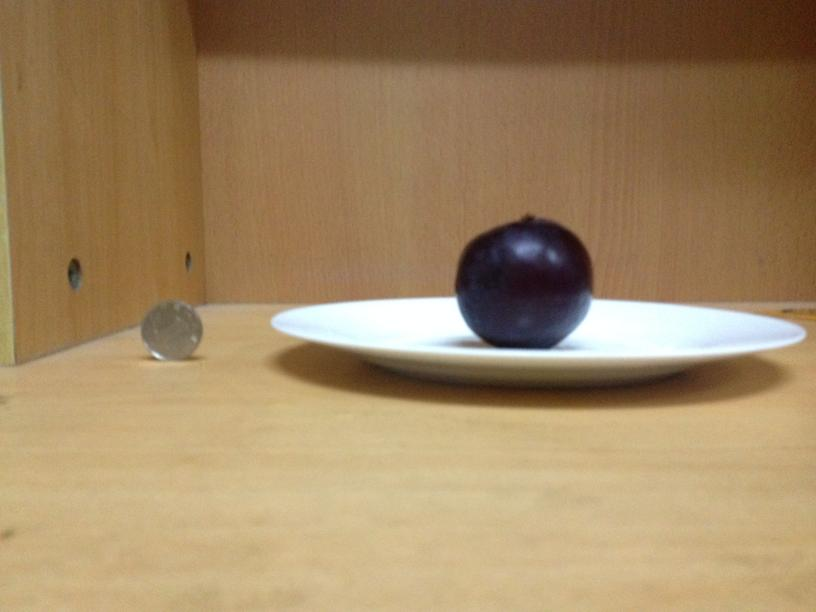coin: (144, 297, 202, 359)
plum: (452, 209, 591, 345)
